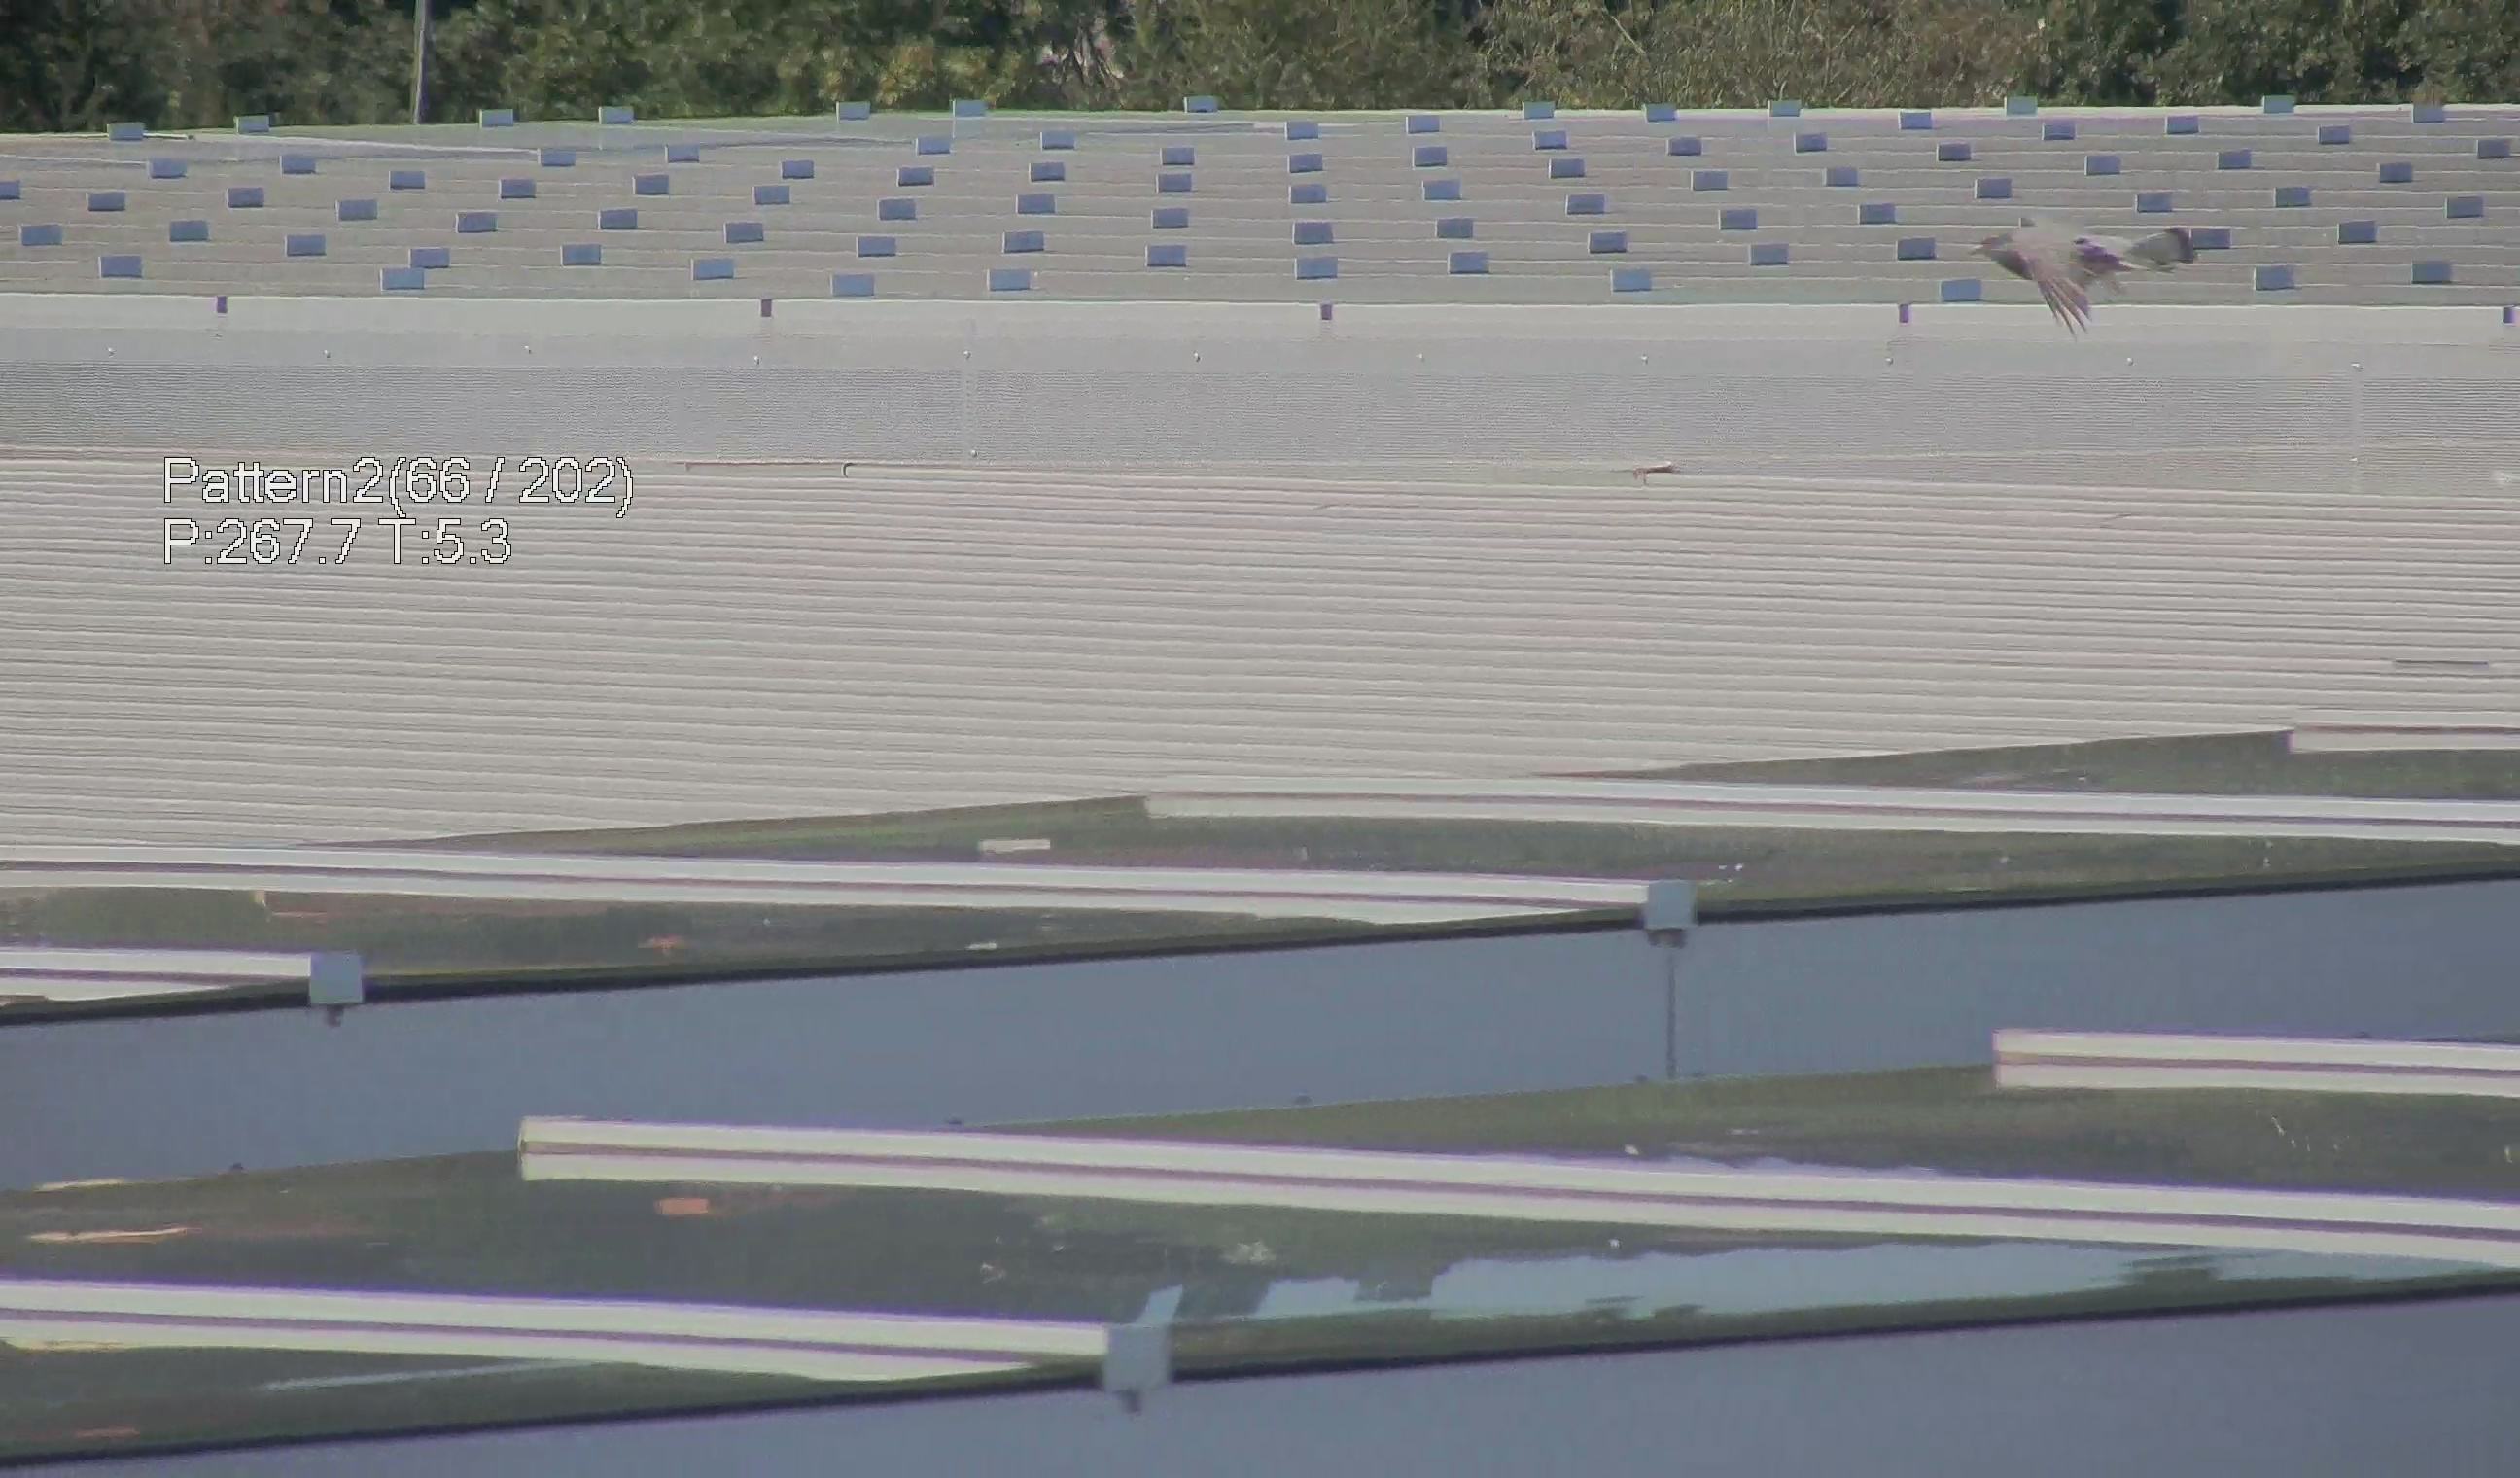Pigeon: (1970, 211, 2203, 345)
